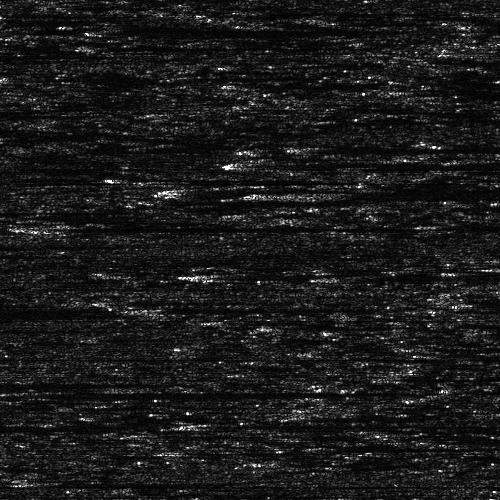rock: (240, 136, 365, 159), (12, 219, 95, 234), (234, 191, 327, 198), (151, 184, 204, 195), (120, 304, 203, 311), (178, 270, 231, 279), (49, 42, 112, 49), (185, 162, 268, 167), (249, 321, 302, 328), (141, 178, 204, 183), (76, 25, 117, 32), (482, 264, 500, 271), (416, 343, 437, 348)
shadow: (54, 219, 392, 234), (303, 136, 500, 159), (97, 25, 377, 32), (281, 191, 500, 198), (178, 184, 317, 195), (81, 42, 288, 49), (162, 304, 367, 311), (227, 162, 438, 167), (173, 178, 312, 183), (205, 270, 274, 279), (276, 321, 347, 328), (0, 325, 90, 330), (0, 312, 76, 317), (427, 343, 500, 348), (0, 241, 69, 244)
